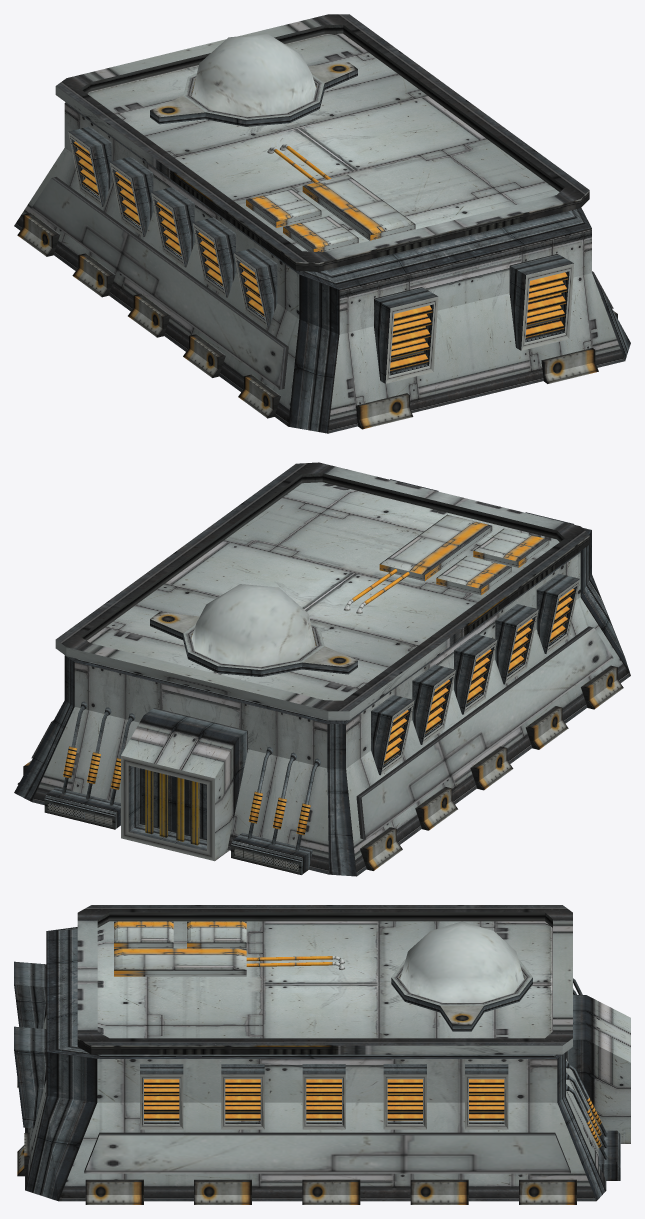
File: casa-02-sciRETEX.fbx
The picture shows the model from 3 angles, top to bottom: view 1: azimuth 30°, elevation 25°; view 2: azimuth 150°, elevation 25°; view 3: azimuth 270°, elevation 25°; orthographic projection.
Parts seen in each view (by area): view 1: Cylinder.001, Icosphere, Cylinder.000; view 2: Cylinder.001, Icosphere, Cylinder.000; view 3: Cylinder.001, Icosphere, Cylinder.000.
Boxes of the visible parts, x1=… form: Cylinder.001: x1=14, y1=14, x2=630, y2=433; Icosphere: x1=150, y1=34, x2=357, y2=126; Cylinder.000: x1=246, y1=144, x2=415, y2=252; Cylinder.001: x1=14, y1=462, x2=630, y2=876; Icosphere: x1=150, y1=584, x2=357, y2=676; Cylinder.000: x1=344, y1=514, x2=549, y2=614; Cylinder.001: x1=14, y1=905, x2=630, y2=1204; Icosphere: x1=391, y1=921, x2=532, y2=1031; Cylinder.000: x1=114, y1=921, x2=345, y2=976.
Bounding box in the file's own units: 7.45 × 3.97 × 11.39.
